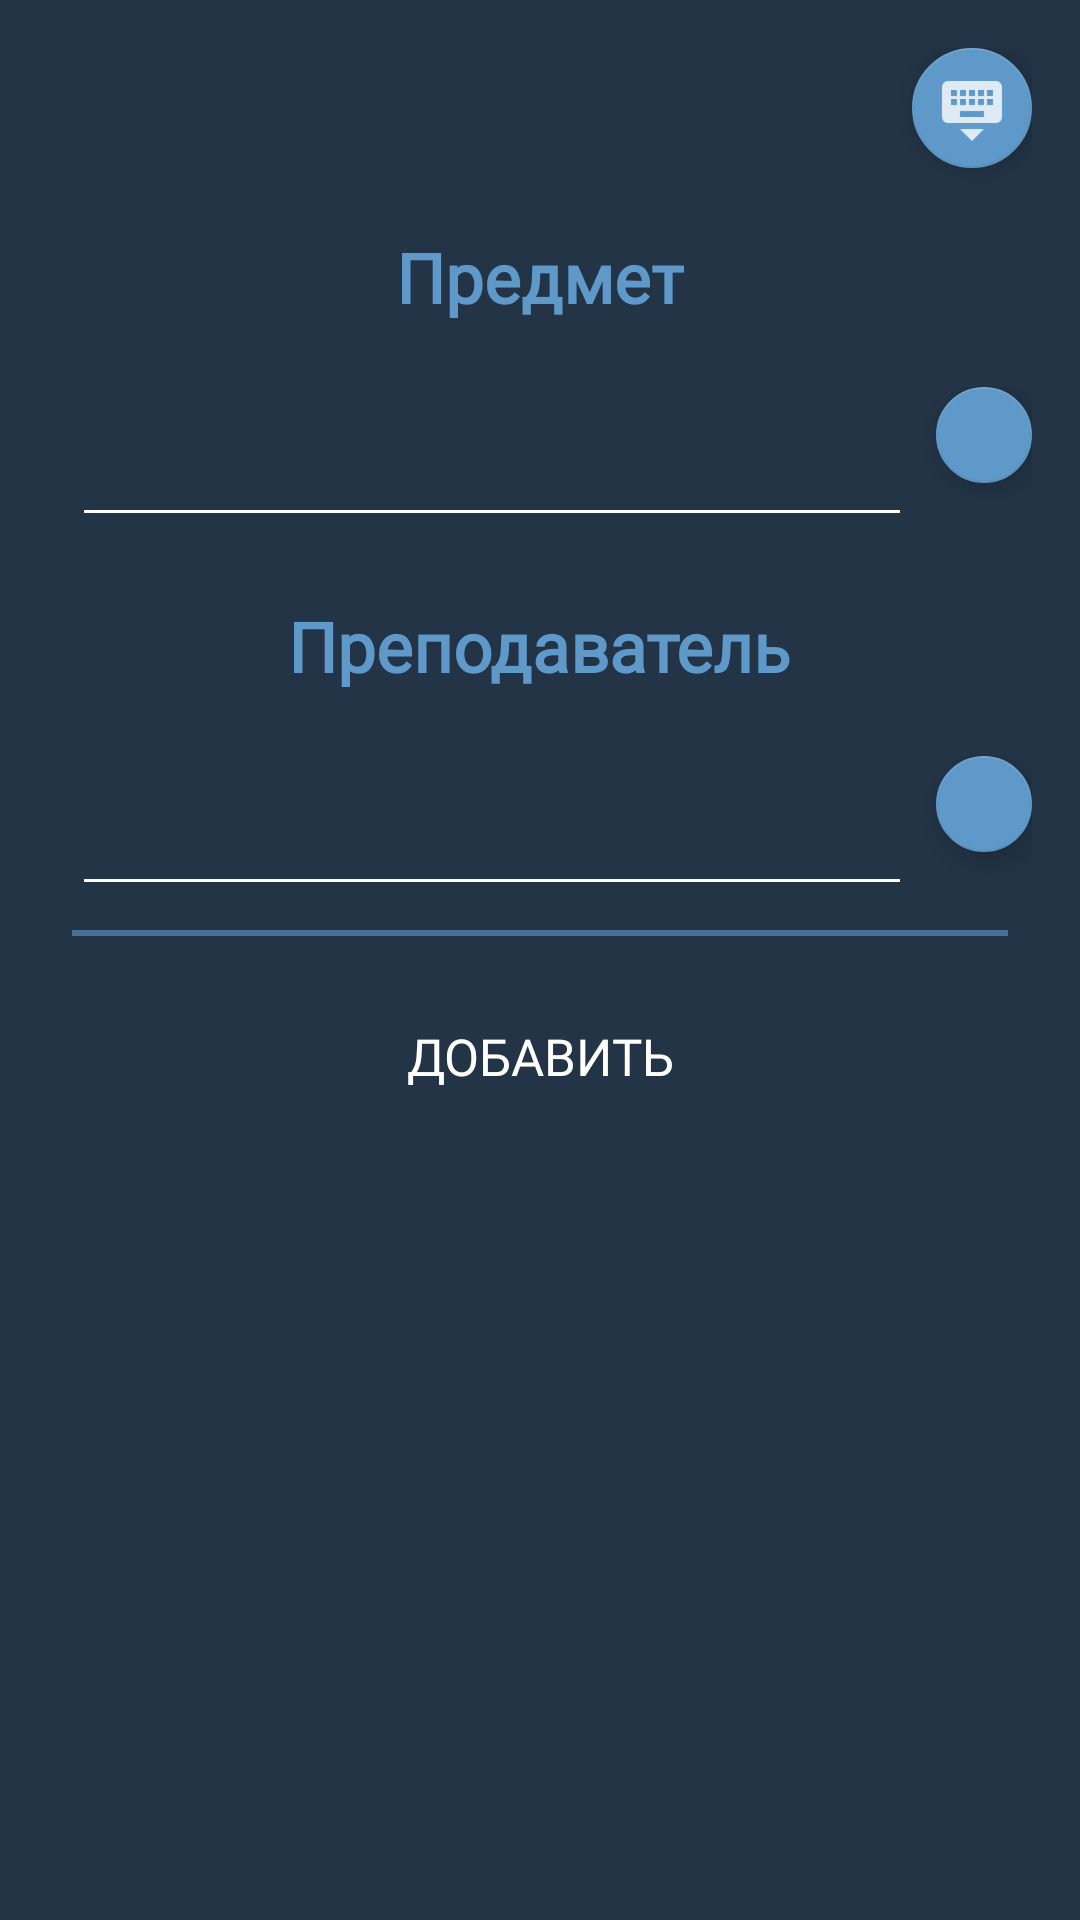

Where to tap for icons on this 1080px x 1920px app screen, as [x,y]:
keyboard: [972,108]
